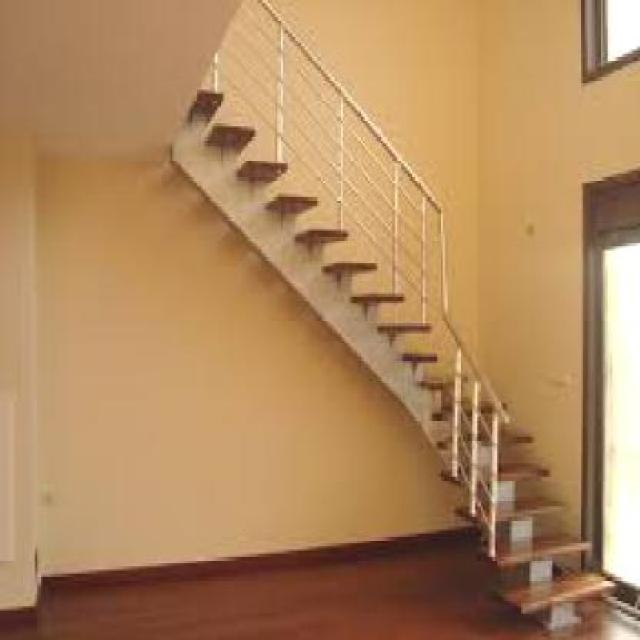stair: (140, 33, 625, 636)
